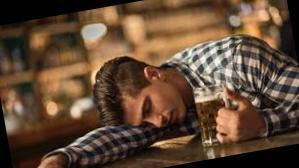Drunk: (122, 88, 186, 130)
